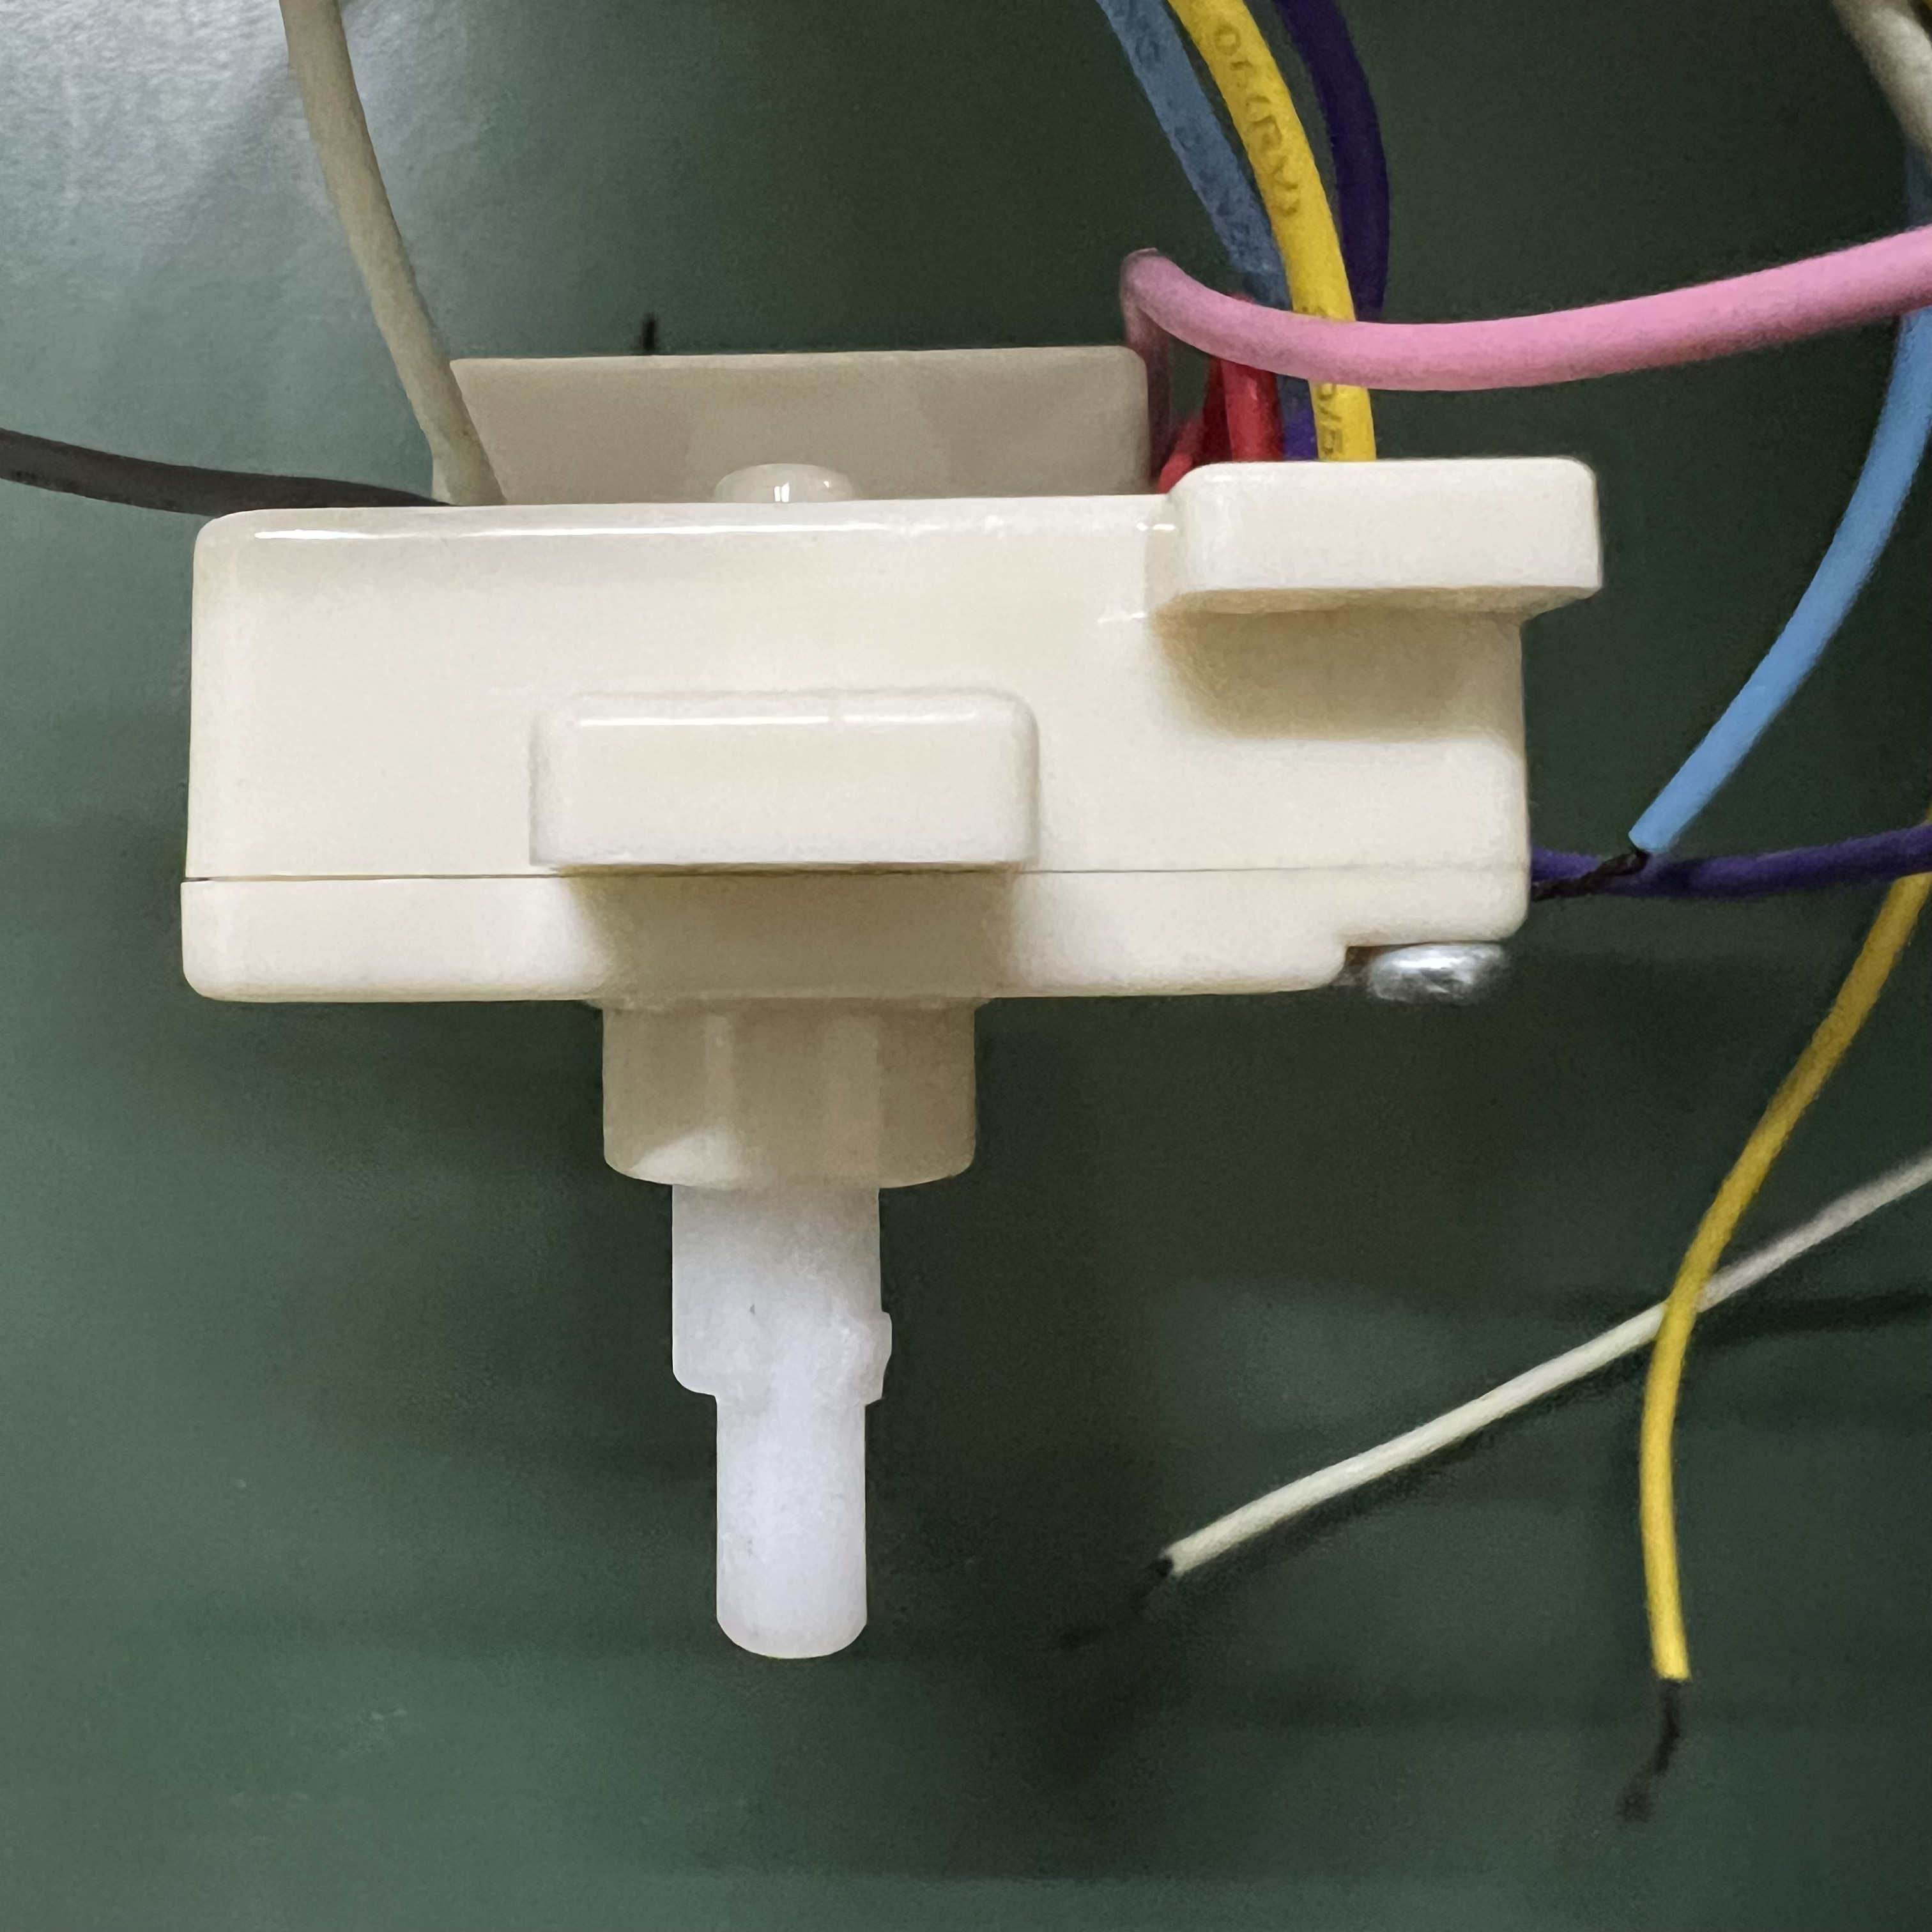rectangle_timer: (186, 311, 1635, 1725)
